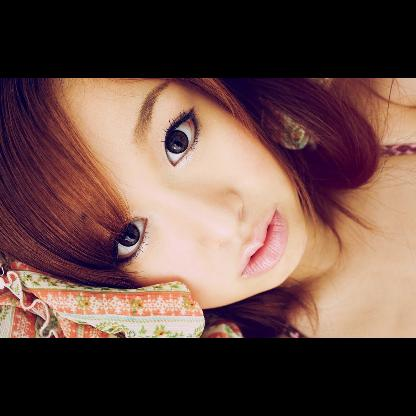Female: (45, 78, 305, 310)
